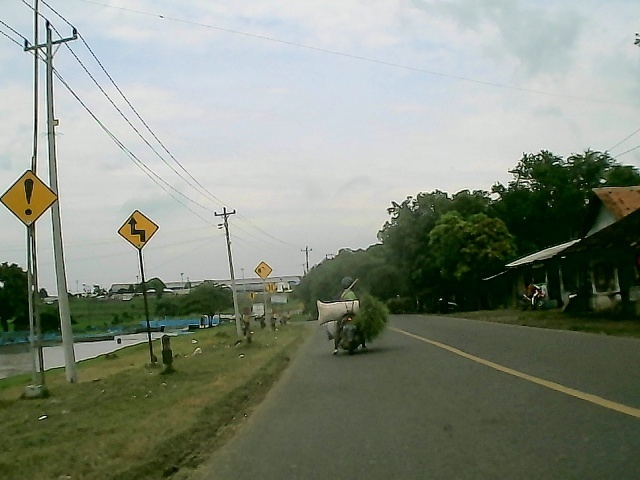Hati-hati: (2, 169, 59, 226)
Peringatan tepi air: (253, 259, 274, 281)
Tikungan garda pertama kiri: (114, 209, 161, 254)
